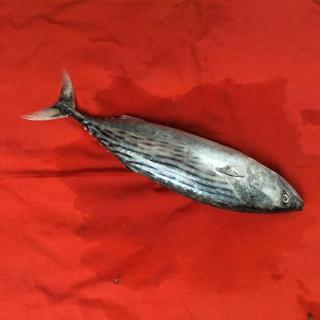Ikan: (21, 66, 310, 234)
